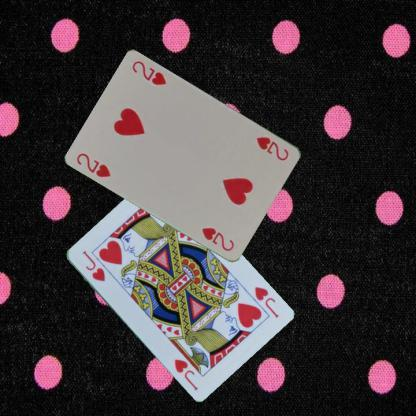2h: (74, 150, 113, 179), (254, 134, 291, 162)
Jh: (251, 284, 280, 319), (79, 247, 106, 283)
